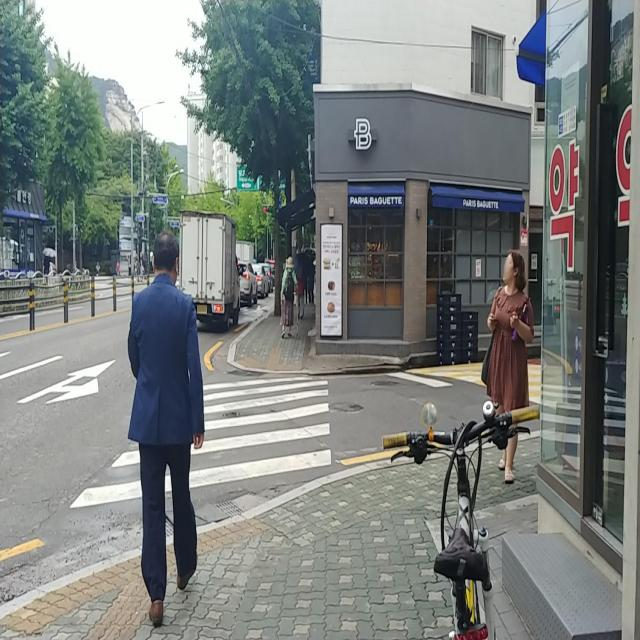횡단보도: (67, 372, 334, 512)
